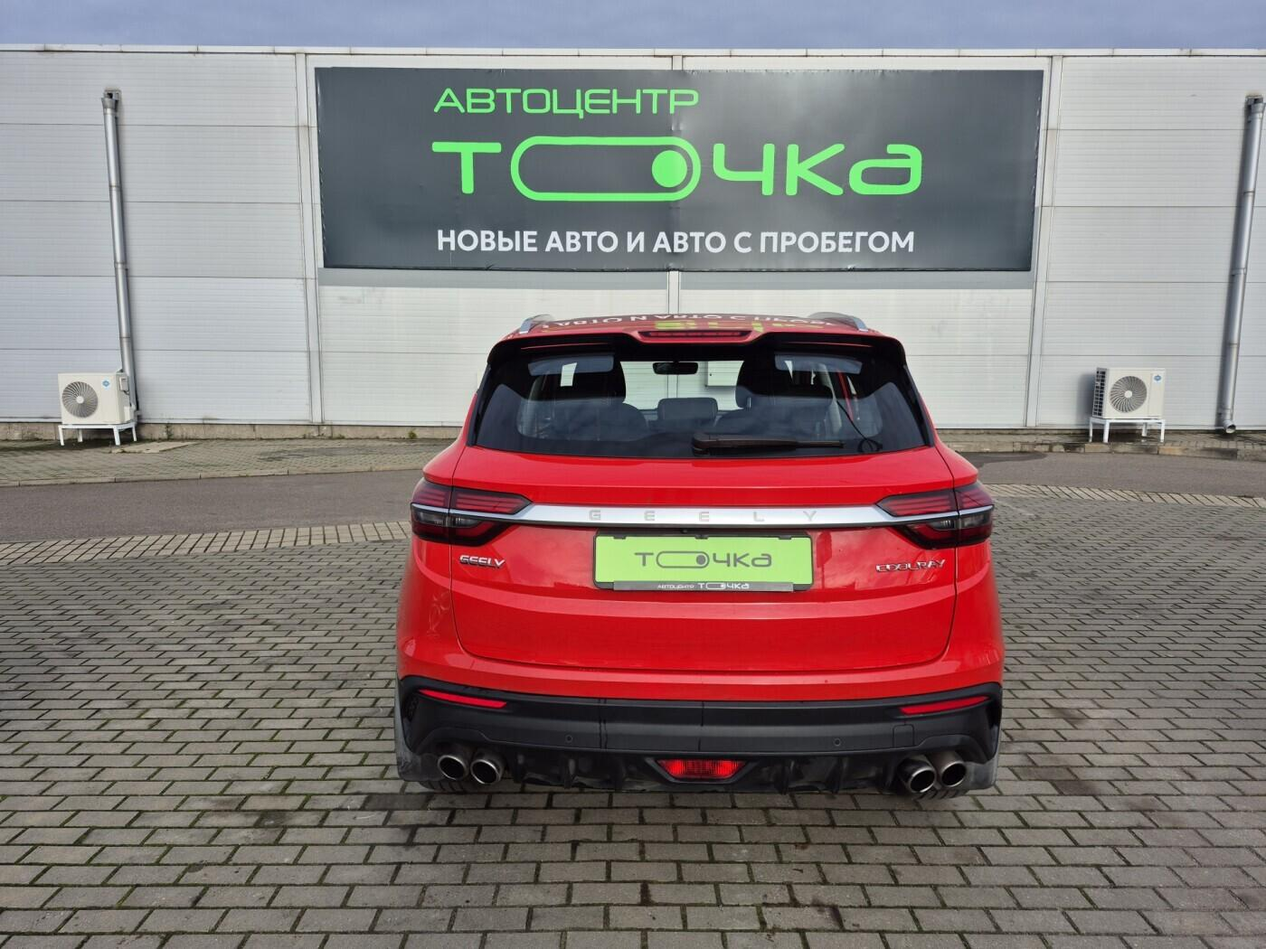Coolray_2019-2023: (394, 305, 1008, 820)
